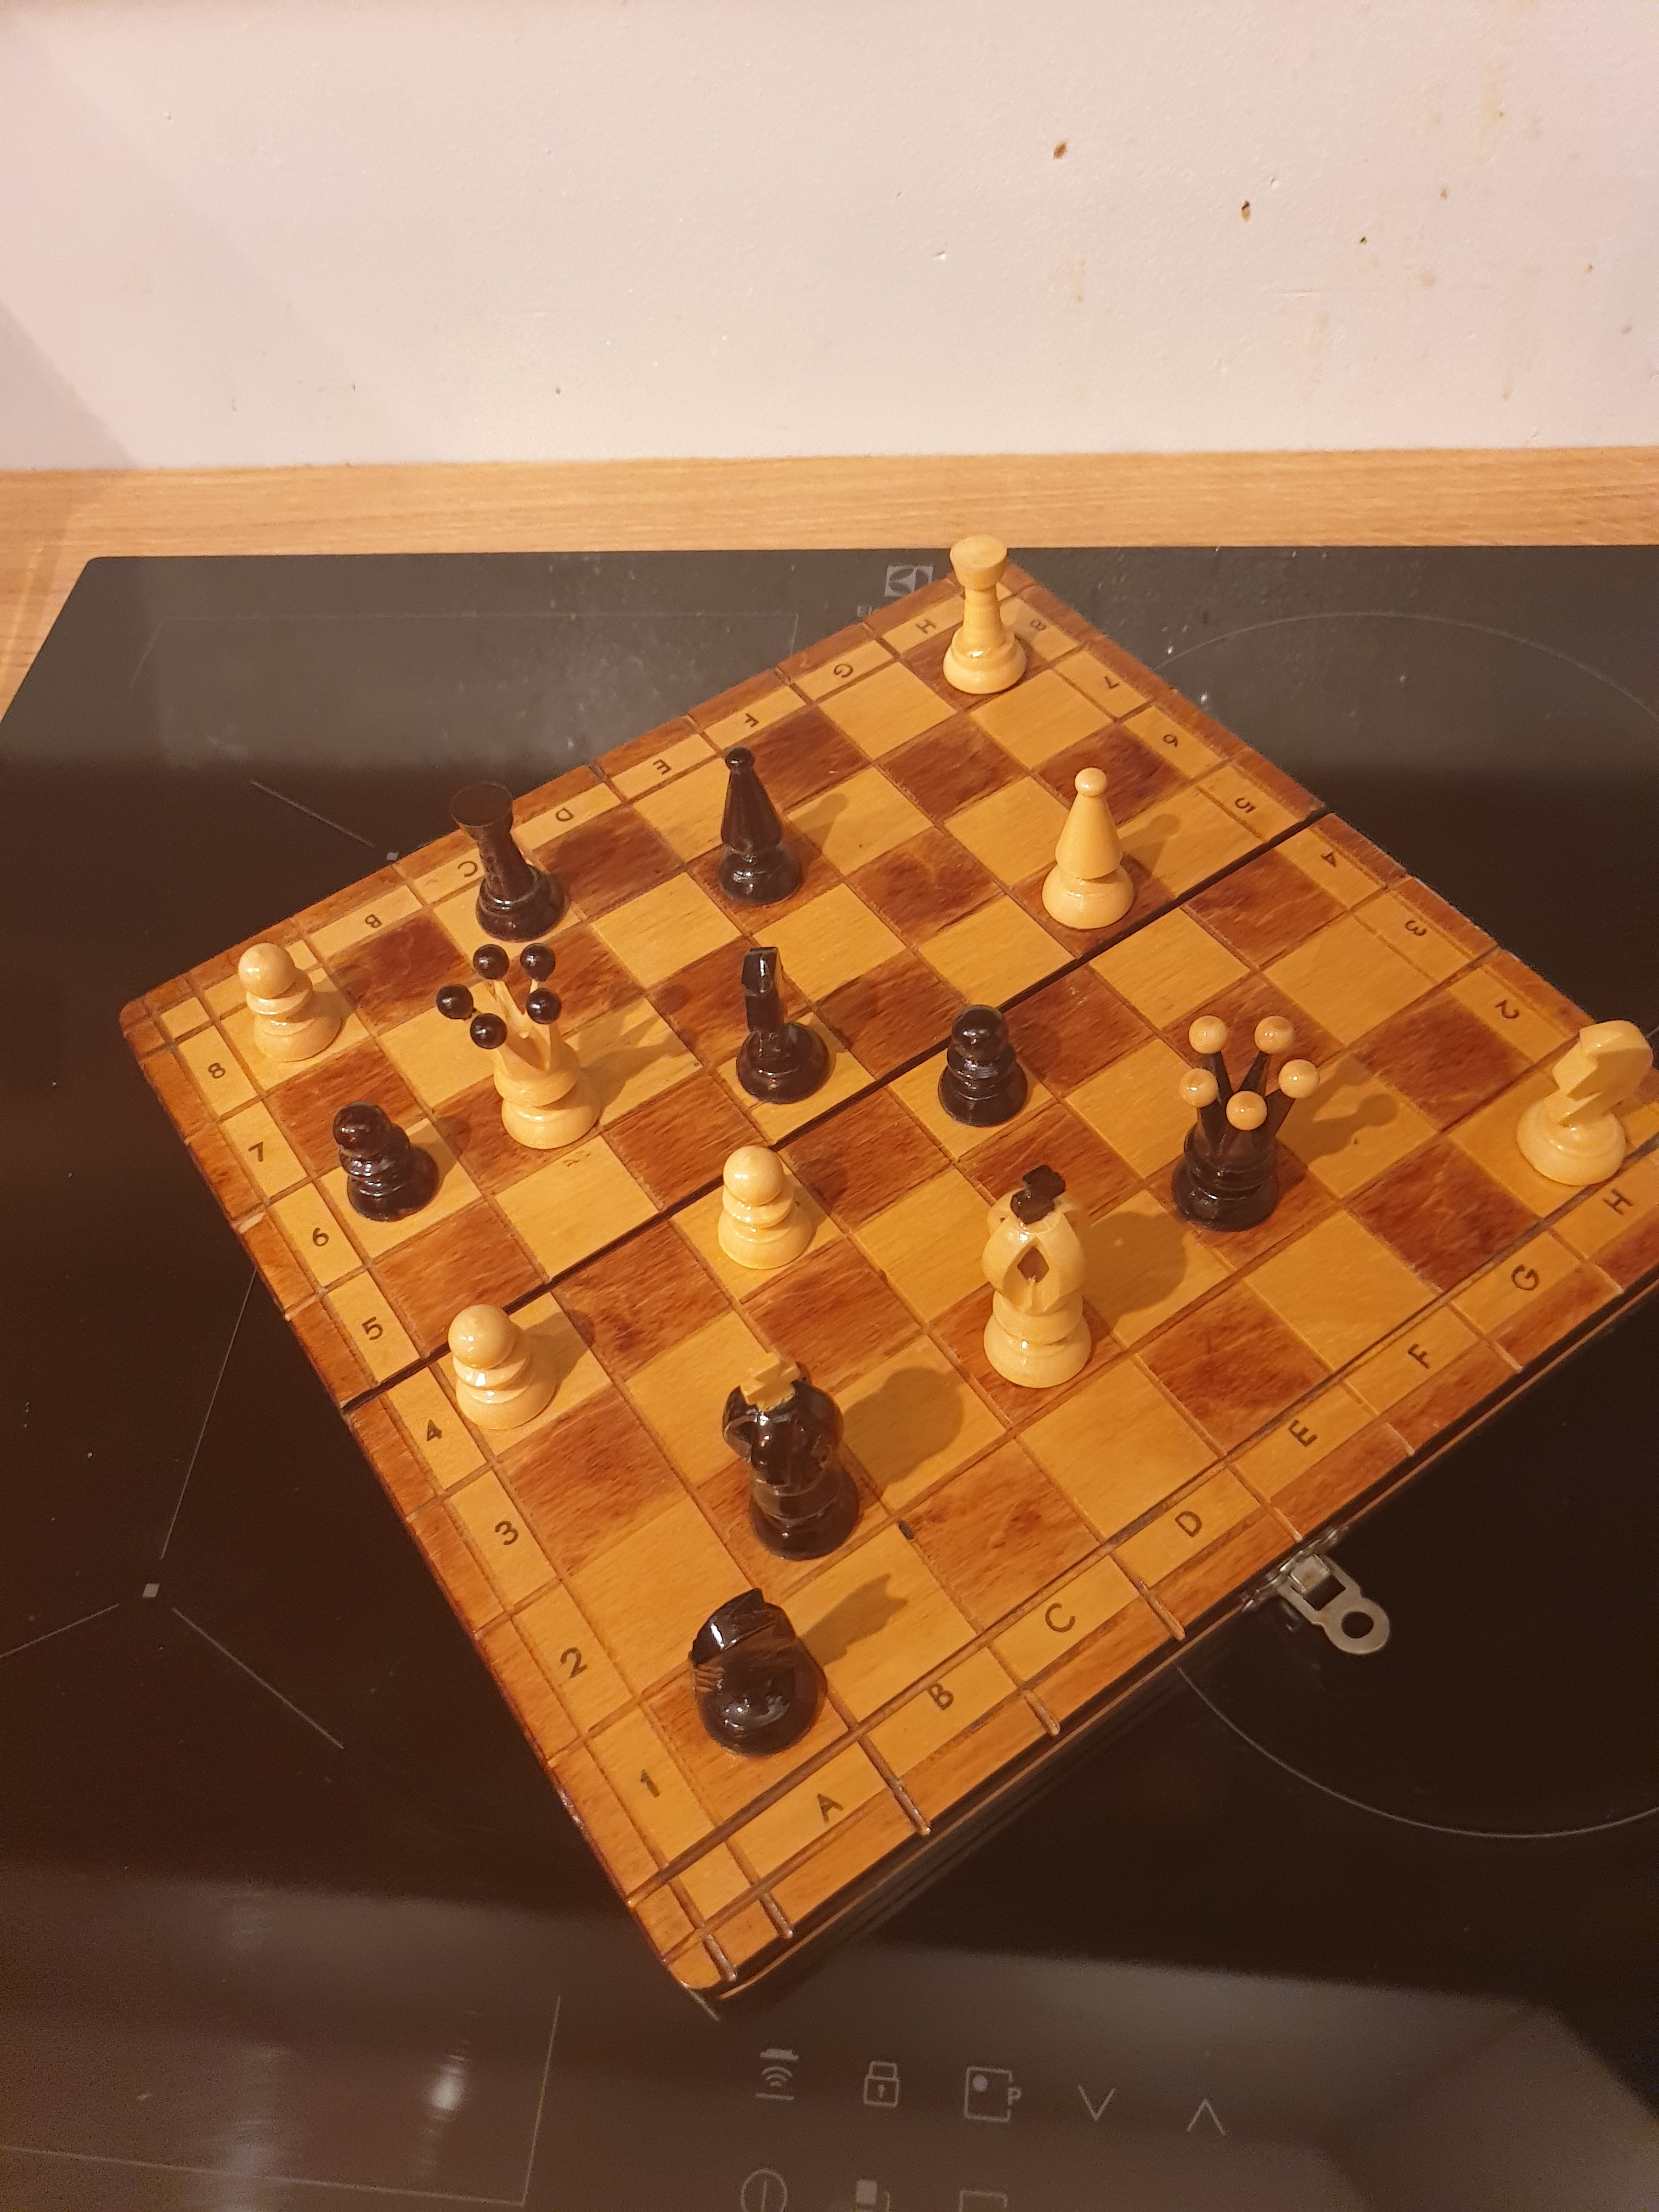bbishop: (704, 733, 807, 923)
bking: (713, 1336, 878, 1573)
bknight: (674, 1580, 833, 1766), (718, 935, 849, 1106)
bpawn: (319, 1089, 451, 1235), (924, 991, 1032, 1141)
bqueen: (1154, 998, 1330, 1245)
brook: (439, 761, 572, 949)
wbishop: (1025, 759, 1148, 944)
wking: (965, 1153, 1114, 1411)
wknight: (1509, 1005, 1659, 1200)
wpawn: (688, 1129, 835, 1299), (437, 1296, 575, 1446), (221, 928, 354, 1076)
wqueen: (427, 932, 620, 1165)
wrook: (925, 523, 1035, 712)
